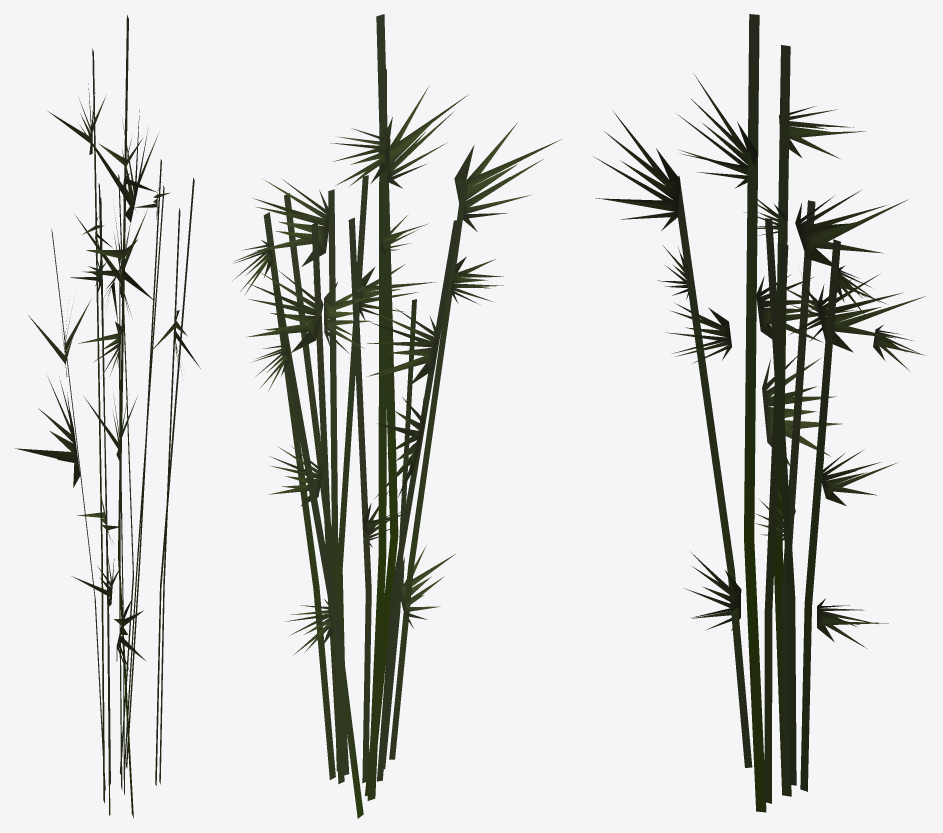
The model's file is LargeBamboo 1.fbx.
3 renders of one model, left to right at view 1: azimuth 30°, elevation 25°; view 2: azimuth 150°, elevation 25°; view 3: azimuth 270°, elevation 25°, orthographic. The views are drawn at different scales.
Parts seen in each view (by area): view 1: LargeBamboo__4_; view 2: LargeBamboo__4_; view 3: LargeBamboo__4_.
Boxes of the visible parts, bbox=[...] form: LargeBamboo__4_: bbox=[15, 15, 200, 818]; LargeBamboo__4_: bbox=[232, 14, 560, 818]; LargeBamboo__4_: bbox=[593, 14, 925, 812].
Bounding box in the file's own units: 113 × 156 × 410.
